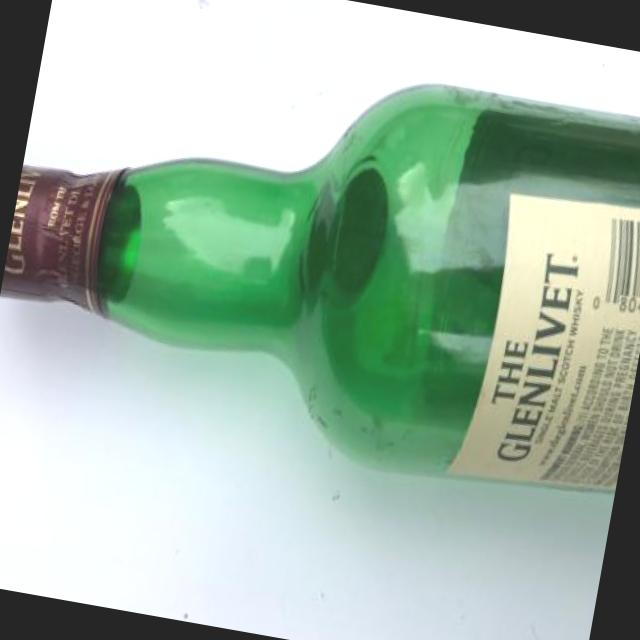chai_thuy_tinh: (0, 84, 640, 500)
